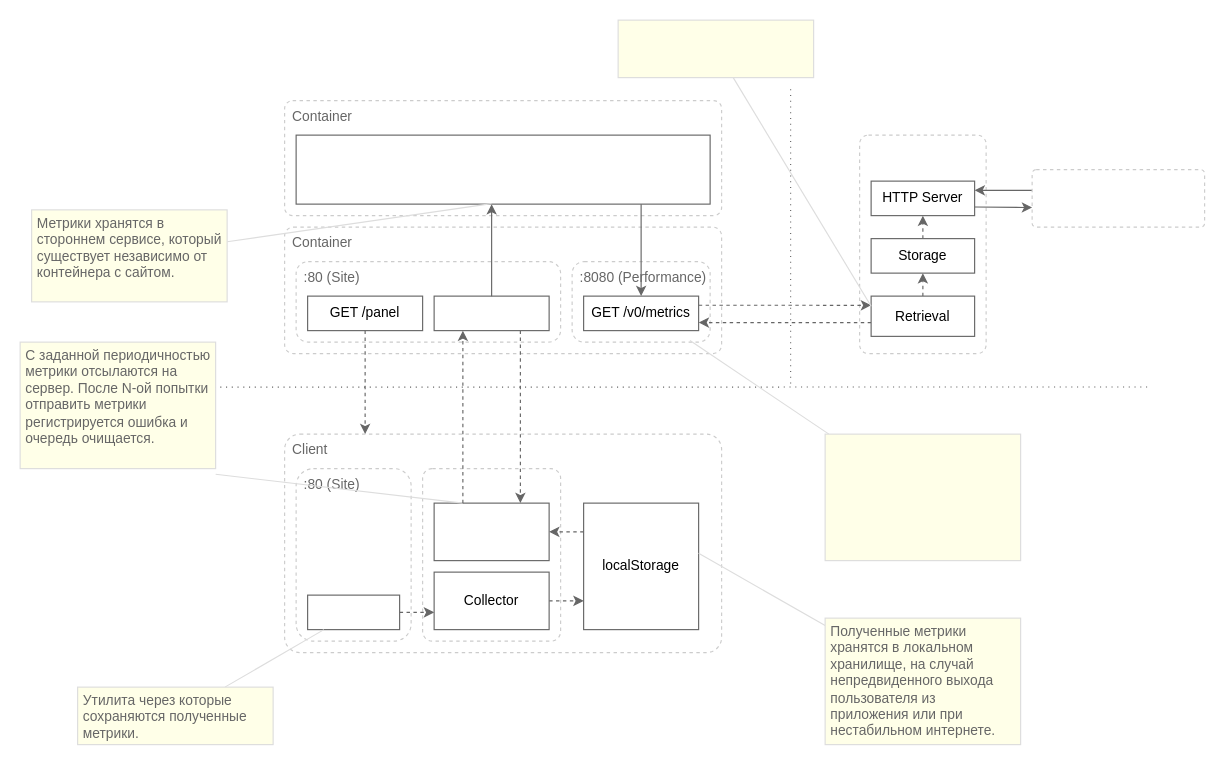
The diagram is 1225 pixels wide and 765 high, and some of its shapes have lost their labels. Each missing label, with the box of its shape:
Exporter: (433, 502, 549, 561)
Grafana: (1031, 168, 1205, 227)
joom.perf: (306, 594, 400, 630)
POST /v0/metrics: (433, 295, 549, 331)
Prometheus: (858, 134, 986, 354)
Redis / Memcached / …: (295, 134, 710, 204)
Service Worker: (421, 467, 561, 641)
Поднимается еще один сервер на отдельном порте, чтобы ручки не торчали наружу.: (824, 433, 1021, 561)
С какой-то периодичностью промитеус забираем накопленные метрики.: (617, 19, 814, 78)
